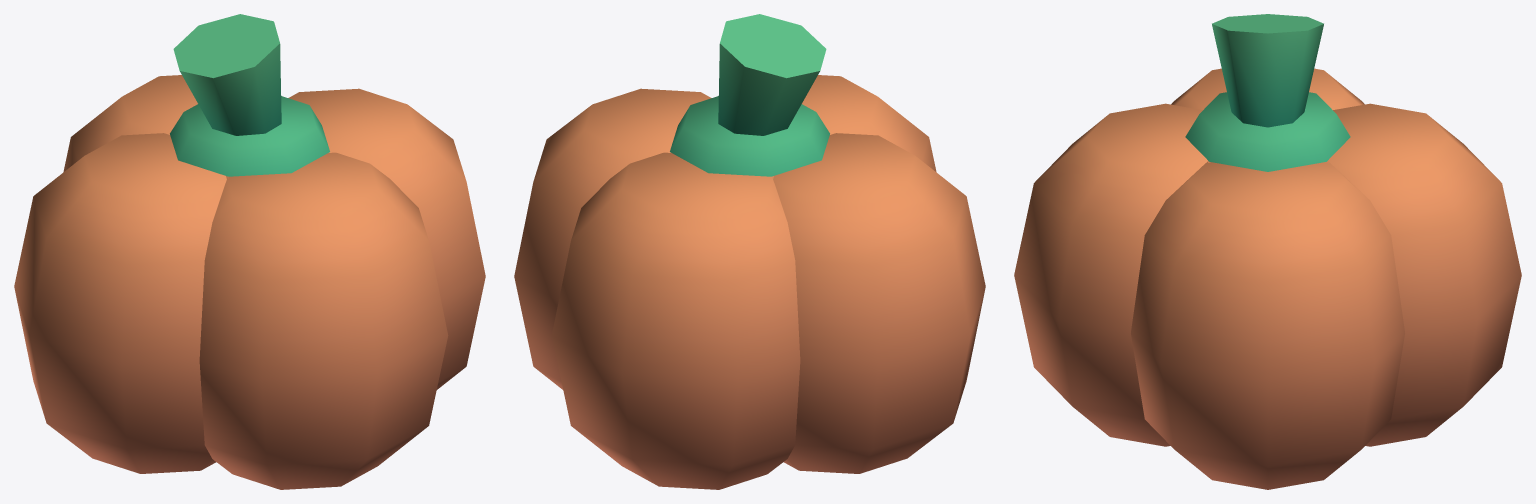
The model's file is pumpkin_lev2.glb.
3 views of the same model, side by side, from view 1: azimuth 30°, elevation 25°; view 2: azimuth 150°, elevation 25°; view 3: azimuth 270°, elevation 25° (orthographic).
Parts seen in each view (by area): view 1: pumpkin_lev2; view 2: pumpkin_lev2; view 3: pumpkin_lev2.
Part boxes in pixels (left/top/right/bottom): pumpkin_lev2: left=14, top=14, right=485, bottom=489; pumpkin_lev2: left=514, top=14, right=985, bottom=489; pumpkin_lev2: left=1014, top=14, right=1521, bottom=489.
Size of the model in its own units: 0.3775 by 0.3211 by 0.3775.
Materials: 1 (1 with a texture image).
